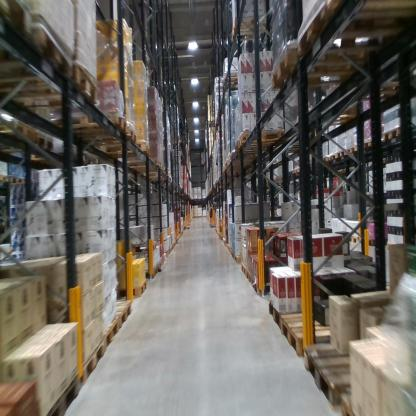pallet: (293, 4, 414, 62), (22, 65, 102, 139), (2, 20, 71, 105), (301, 336, 371, 413), (266, 44, 371, 84), (280, 310, 343, 363), (43, 367, 87, 414), (3, 2, 36, 51), (66, 112, 125, 139), (229, 15, 280, 41), (82, 336, 110, 381), (1, 118, 35, 154), (239, 127, 289, 149), (92, 125, 135, 150), (250, 270, 290, 296), (100, 142, 153, 160), (108, 297, 135, 330), (376, 118, 404, 149), (266, 300, 288, 339), (34, 128, 57, 158), (233, 138, 273, 155), (103, 314, 120, 353), (344, 395, 377, 415), (354, 136, 377, 159), (230, 151, 261, 164), (131, 160, 161, 172), (222, 71, 239, 91), (8, 171, 26, 187), (334, 145, 347, 161), (344, 141, 355, 156), (235, 252, 245, 267), (240, 257, 247, 275), (246, 267, 252, 286), (1, 172, 9, 186), (320, 154, 329, 166), (293, 167, 302, 177), (327, 153, 336, 162), (231, 248, 235, 260), (288, 171, 294, 177)
pallet_truck: (207, 198, 218, 229)
